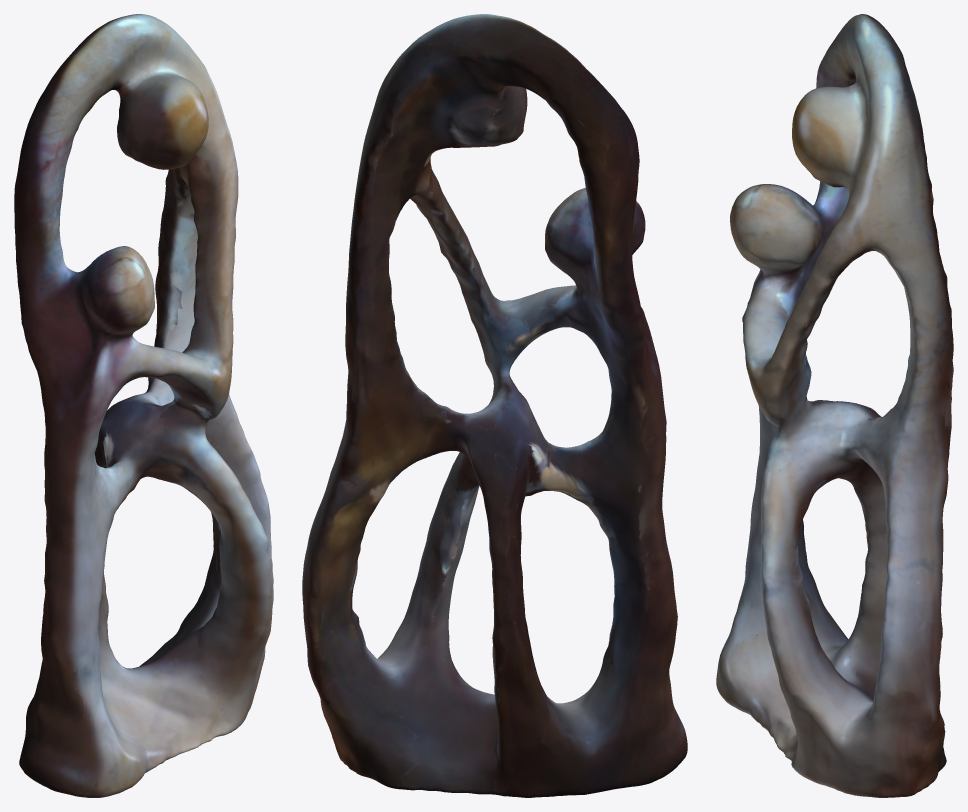
The model's file is sculpture.glb.
The picture shows the model from 3 angles, left to right: view 1: azimuth 30°, elevation 25°; view 2: azimuth 150°, elevation 25°; view 3: azimuth 270°, elevation 25°; orthographic projection. The views are drawn at different scales.
Visible parts, largest first — view 1: Object_2; view 2: Object_2; view 3: Object_2.
Part boxes in pixels (x1,y1,x2,y2): Object_2: (14, 14, 273, 797); Object_2: (302, 14, 687, 797); Object_2: (716, 14, 953, 797).
Size of the model in its own units: 0.2442 by 0.5703 by 0.1718.
Materials: 1 (1 with a texture image).
